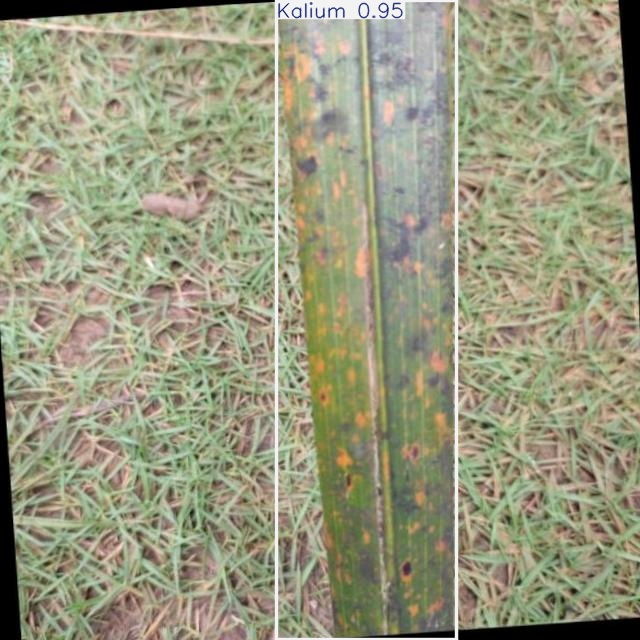Kalium: (277, 0, 456, 640)
